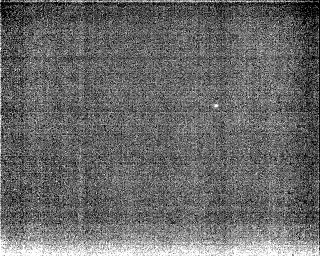BIRD: (211, 101, 220, 110)
